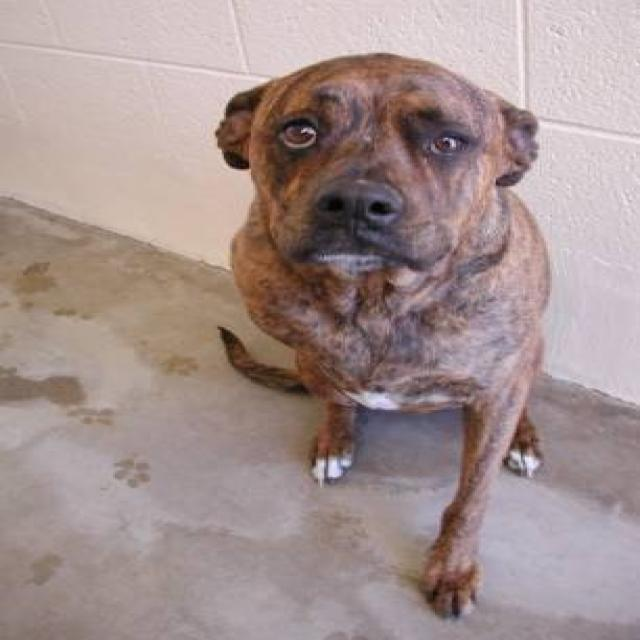dog: (211, 50, 552, 620)
